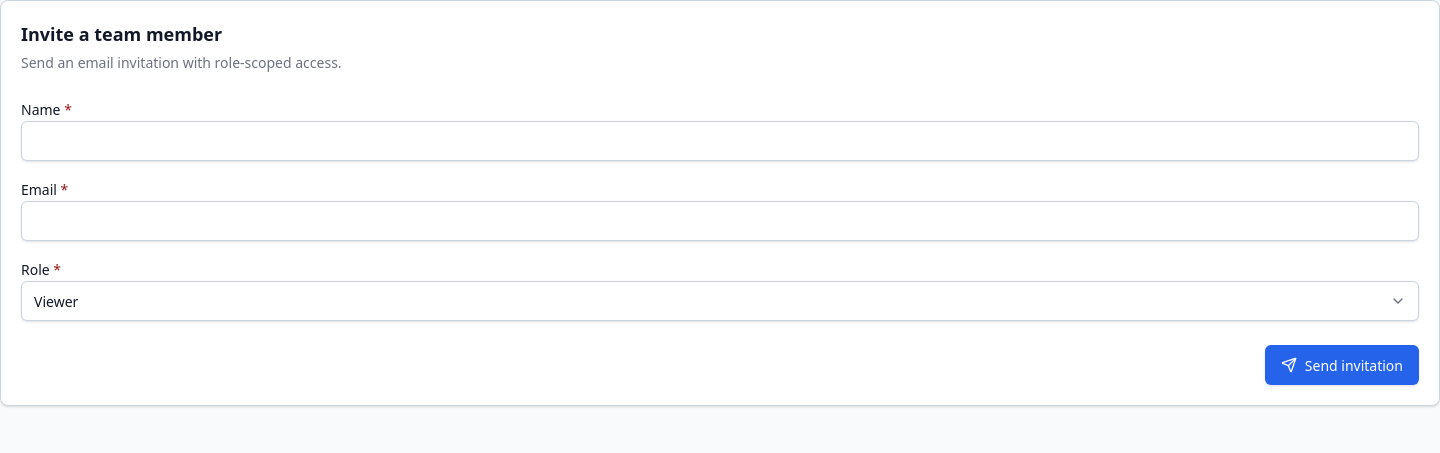
Scenario: InviteForm › maps a 409 duplicate email onto the email field
Type "Carol" into the field labelled "Name *" at (720,141), box [21,121,1419,161]
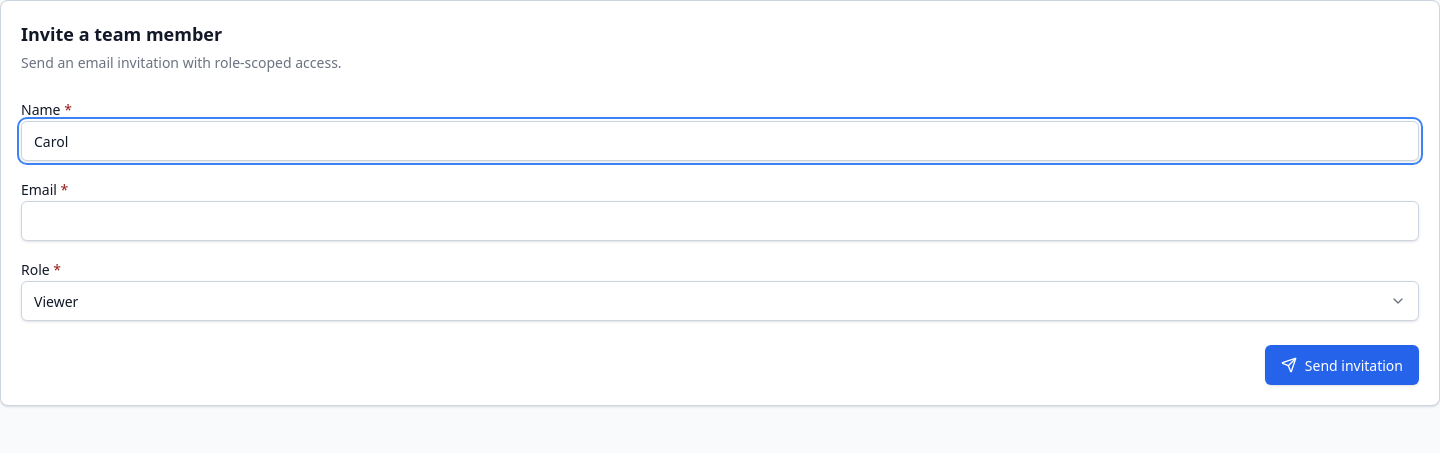
Type "taken@acme.com" into the field labelled "Email *" at (720,221), box [21,201,1419,241]
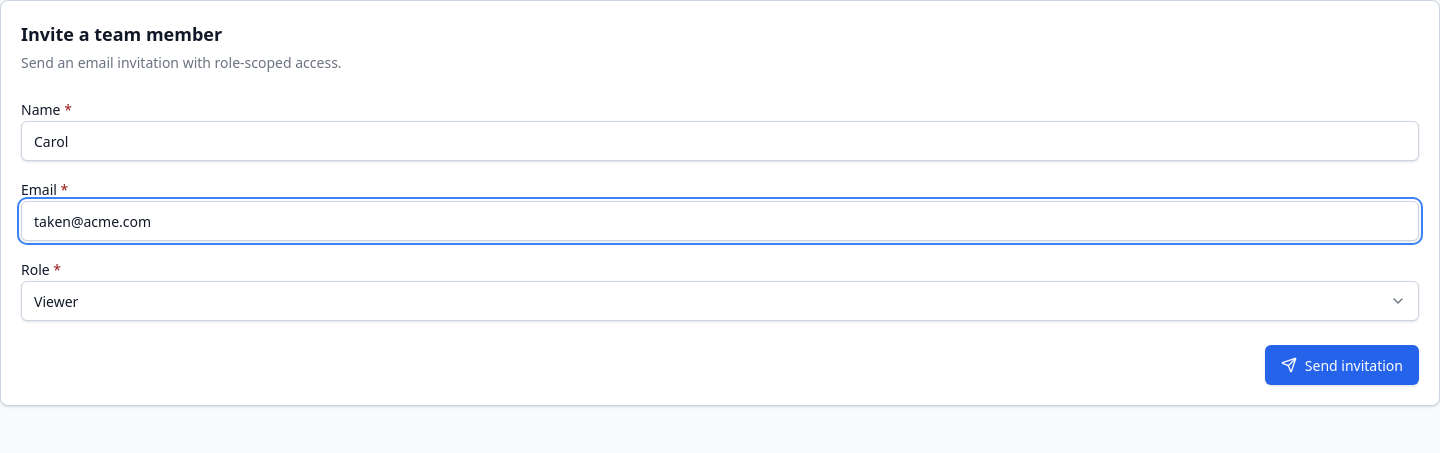
Click the button "Send invitation" at (1342,365), box [1265,345,1419,385]
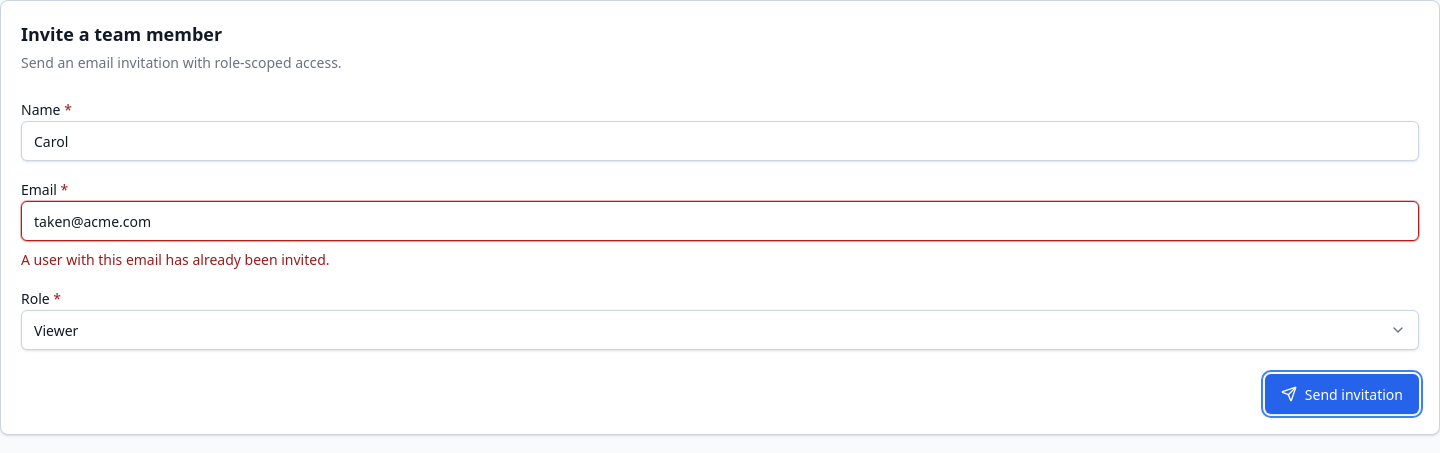
Expected: the text "A user with this email has already been invited." is shown, [21,250,330,269]
